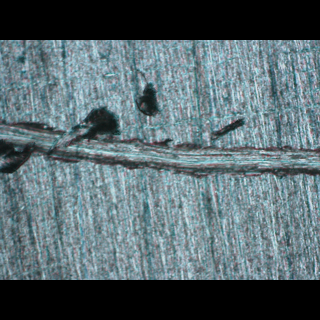Loch: (0, 123, 320, 174), (45, 118, 122, 156), (0, 143, 34, 173), (131, 98, 164, 128)
